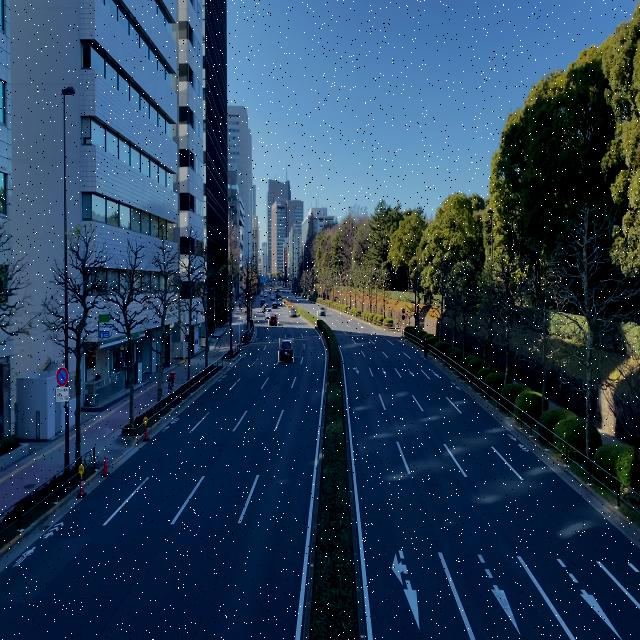Car: (279, 338, 294, 362), (288, 305, 298, 318), (269, 313, 278, 326), (318, 305, 327, 317)
